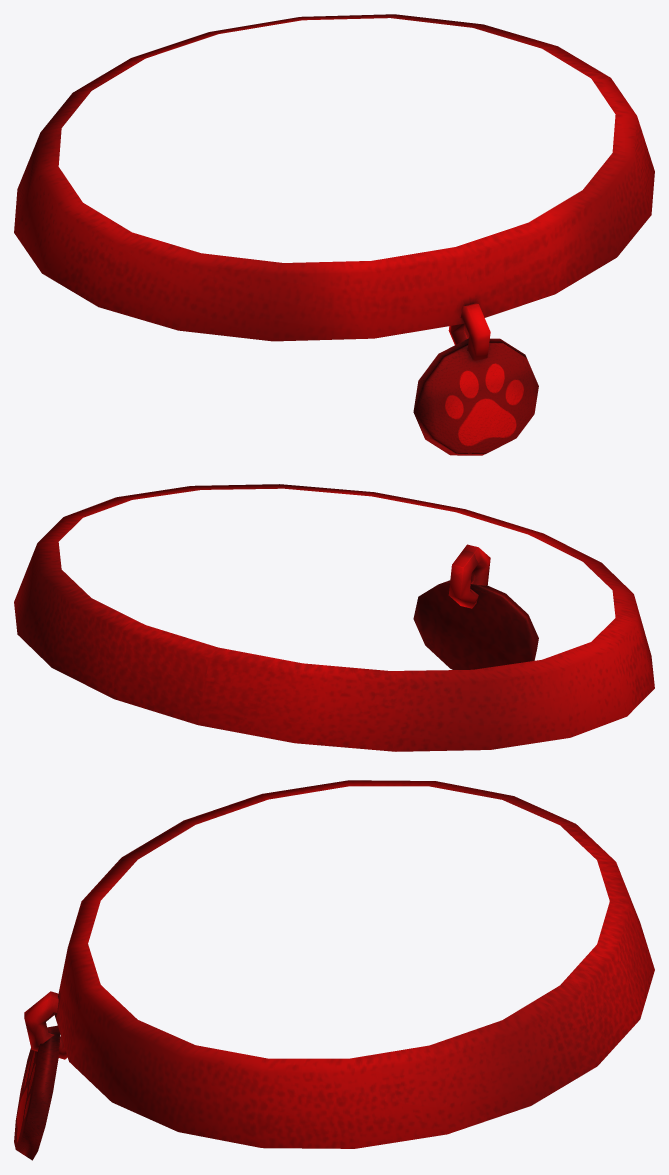
The model's file is M_CollarB.glb.
The picture shows the model from 3 angles, top to bottom: view 1: azimuth 30°, elevation 25°; view 2: azimuth 150°, elevation 25°; view 3: azimuth 270°, elevation 25°; orthographic projection. The views are drawn at different scales.
Visible parts, largest first — view 1: SM_Collar; view 2: SM_Collar; view 3: SM_Collar.
Boxes of the visible parts, <box> form: SM_Collar: <box>14,14,654,455</box>; SM_Collar: <box>14,484,654,751</box>; SM_Collar: <box>14,780,654,1160</box>.
Bounding box in the file's own units: 0.3723 × 0.1389 × 0.3218.
1 material, 1 textured.
